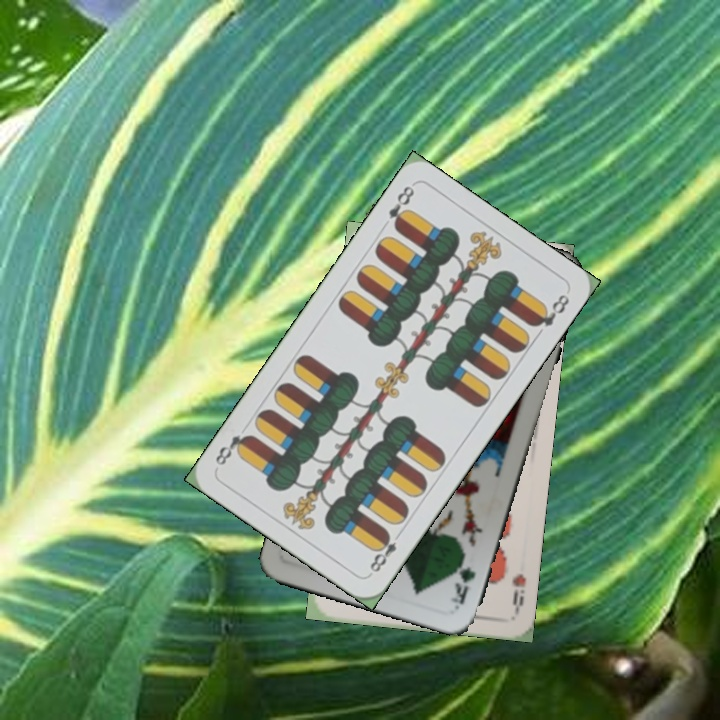E8: (365, 526, 405, 577), (384, 181, 417, 233)
GK: (448, 562, 479, 610)
H9: (508, 570, 529, 615)
